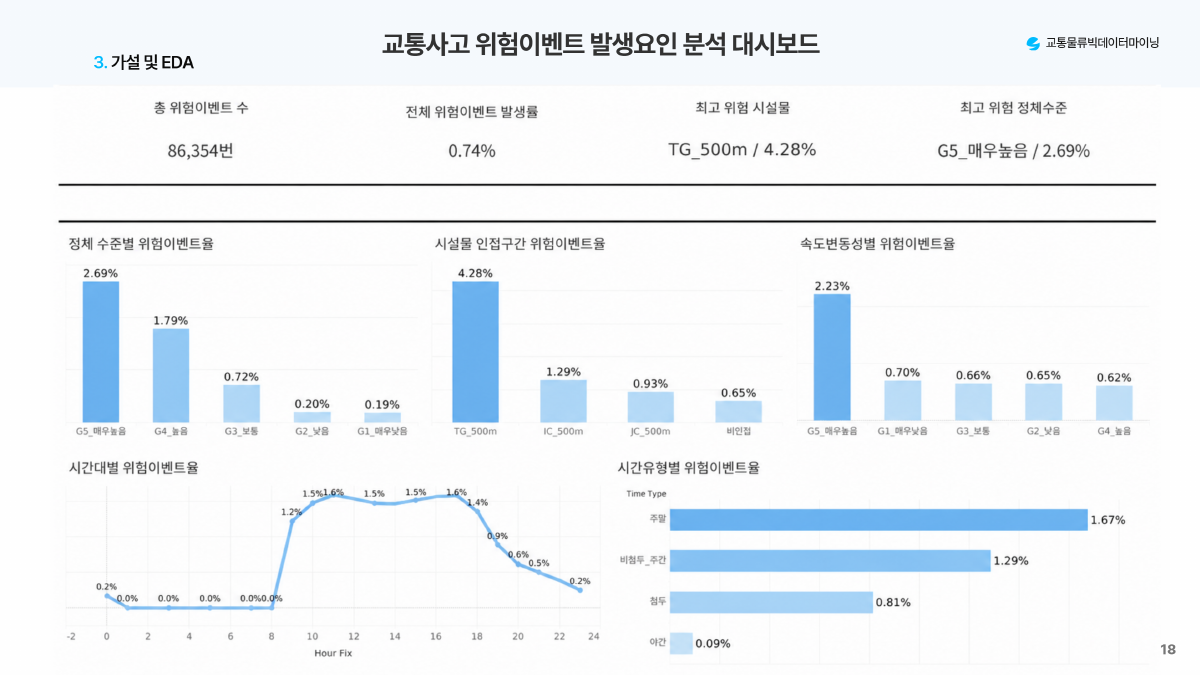

Layout of this report page (visuals, bound fields, positions):
{"tool":"tableau","page":{"name":"고속도로 위험이벤트 발생 요인 분석 대시보드","canvas":[1600,1000],"ordinal":0},"visuals":[{"type":"text","box":[58,8,1484,103]},{"type":"blank","box":[8,111,1584,32]},{"type":"blank","box":[8,143,1584,3]},{"type":"worksheet","title":"총 위험이벤트 수","mark":"Automatic","box":[18,156,391,124]},{"type":"worksheet","title":"전체 위험이벤트 발생률","mark":"Automatic","box":[409,156,391,124]},{"type":"worksheet","title":"최고 위험 시설물","mark":"Automatic","box":[800,156,391,124]},{"type":"worksheet","title":"최고 위험 정체수준","mark":"Automatic","box":[1191,156,391,124]},{"type":"blank","box":[8,290,1584,3]},{"type":"blank","box":[8,293,1584,50]},{"type":"blank","box":[8,343,1584,3]},{"type":"worksheet","title":"정체 수준별 위험이벤트율","mark":"Automatic","rows":["event_rate"],"cols":["congestion_group"],"box":[8,346,528,323]},{"type":"worksheet","title":"시설물 인접구간 위험이벤트율","mark":"Automatic","rows":["event_rate"],"cols":["facility_group"],"box":[536,346,528,323]},{"type":"worksheet","title":"속도변동성별 위험이벤트율","mark":"Automatic","rows":["event_rate"],"cols":["speed_cv_group"],"box":[1064,346,528,323]},{"type":"worksheet","title":"시간대별 위험이벤트율","mark":"Line","rows":["event_rate"],"cols":["hour_fix"],"box":[8,669,792,323]},{"type":"worksheet","title":"시간유형별 위험이벤트율","mark":"Bar","rows":["time_type"],"cols":["event_rate"],"box":[800,669,792,323]}]}

Visuals, with their boxes on the page's 1600x1000 design canvas (x1, y1, x2, y2). These are canvas units, not pixel positions in the 1200x675 screenshot, which may show the page scaled, cropped or inside an application window:
text: 58:8:1542:111
blank: 8:111:1592:143
blank: 8:143:1592:146
"총 위험이벤트 수" worksheet: 18:156:409:280
"전체 위험이벤트 발생률" worksheet: 409:156:800:280
"최고 위험 시설물" worksheet: 800:156:1191:280
"최고 위험 정체수준" worksheet: 1191:156:1582:280
blank: 8:290:1592:293
blank: 8:293:1592:343
blank: 8:343:1592:346
"정체 수준별 위험이벤트율" worksheet: 8:346:536:669
"시설물 인접구간 위험이벤트율" worksheet: 536:346:1064:669
"속도변동성별 위험이벤트율" worksheet: 1064:346:1592:669
"시간대별 위험이벤트율" worksheet (Line marks): 8:669:800:992
"시간유형별 위험이벤트율" worksheet (Bar marks): 800:669:1592:992
